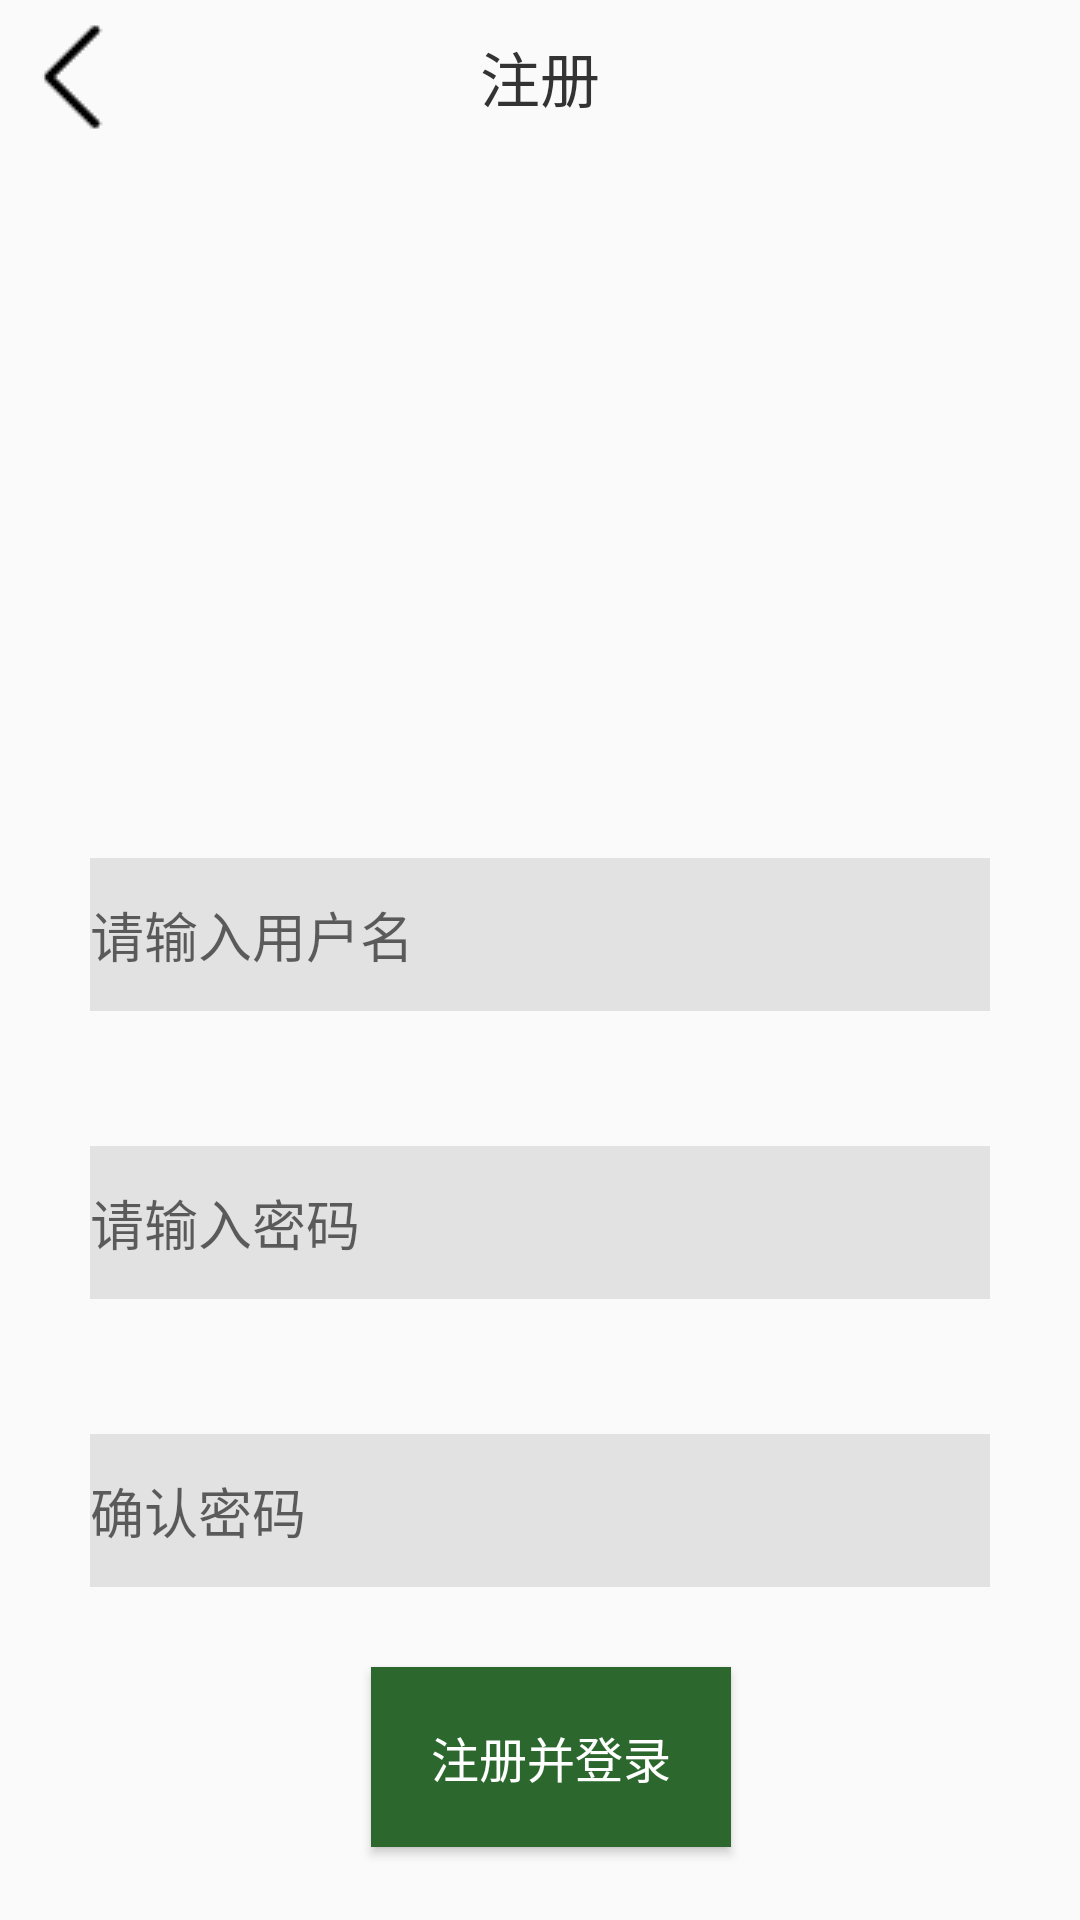

Screen size 1080 x 1920. Icon name, then its box in pixels as (x1, y1, x2, y2):
arrow: (44, 25, 102, 129)
